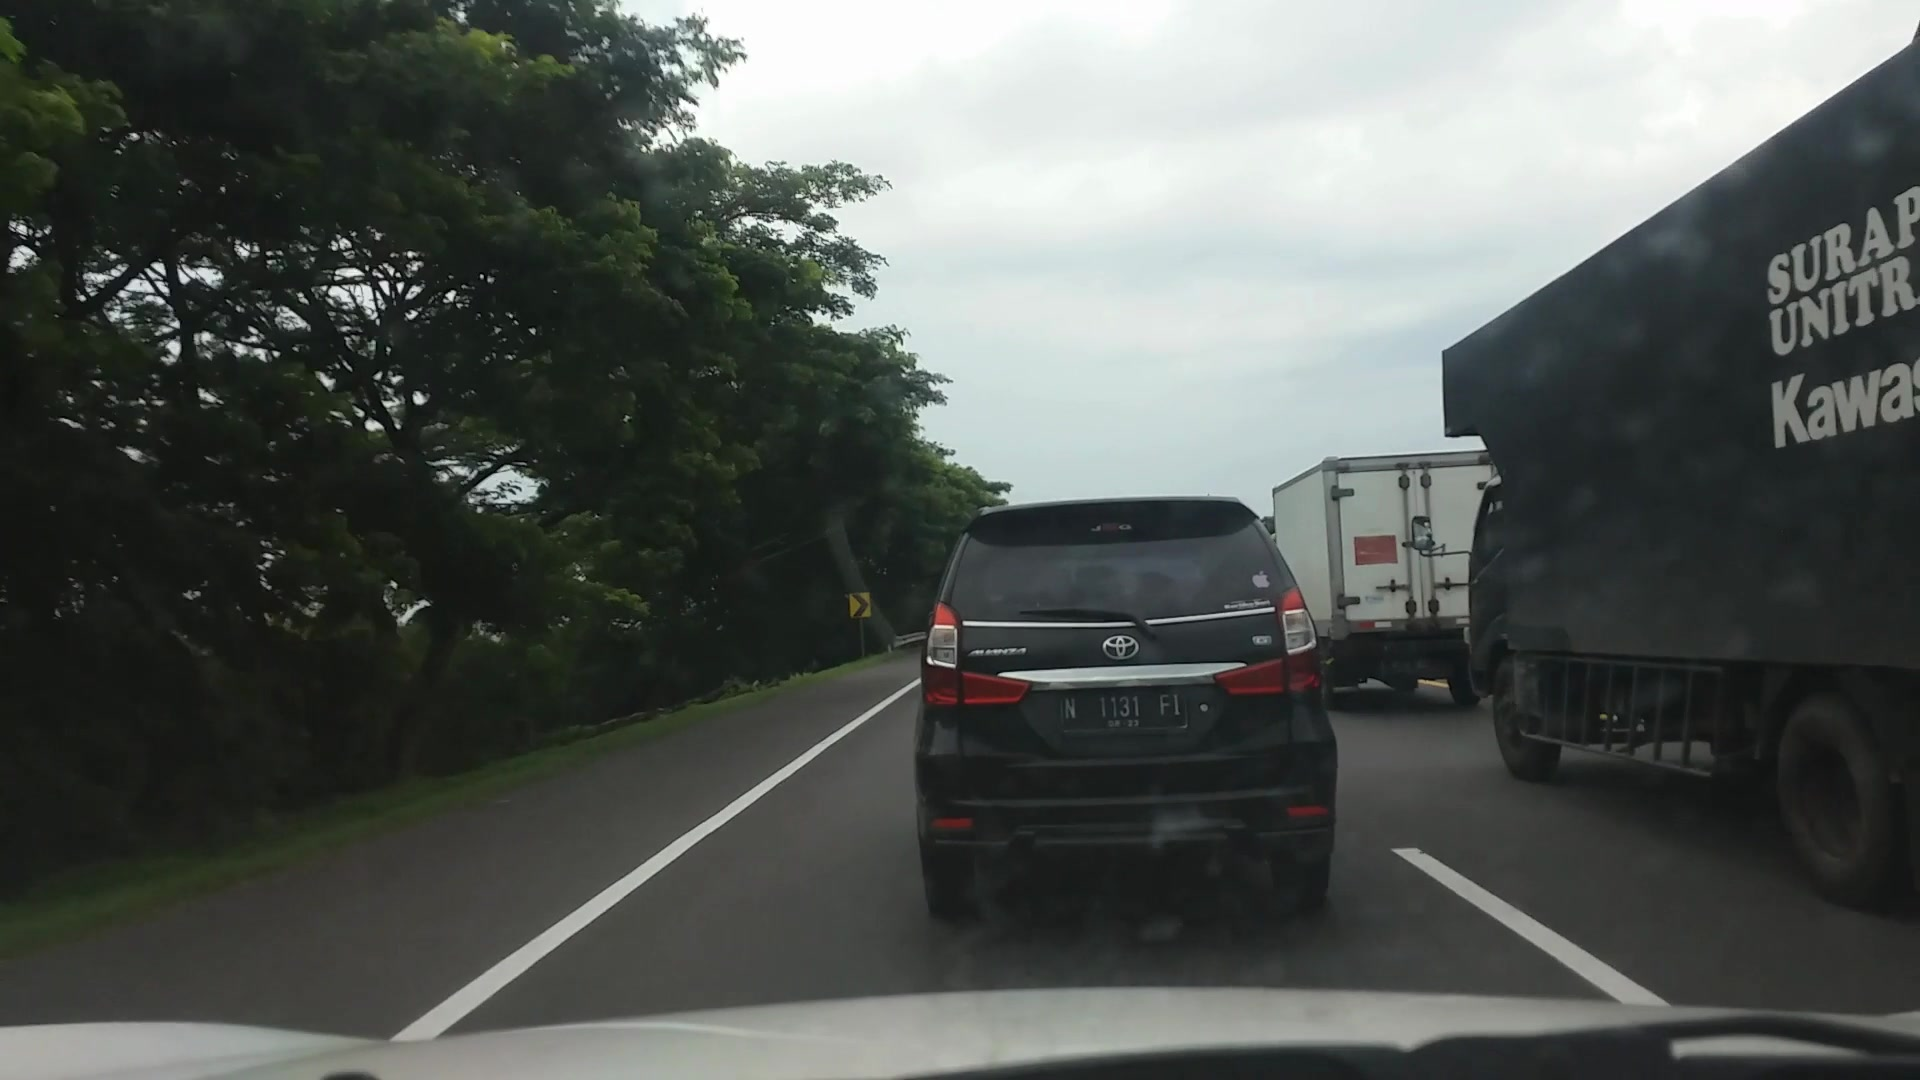plate_positive: (1058, 688, 1185, 731)
